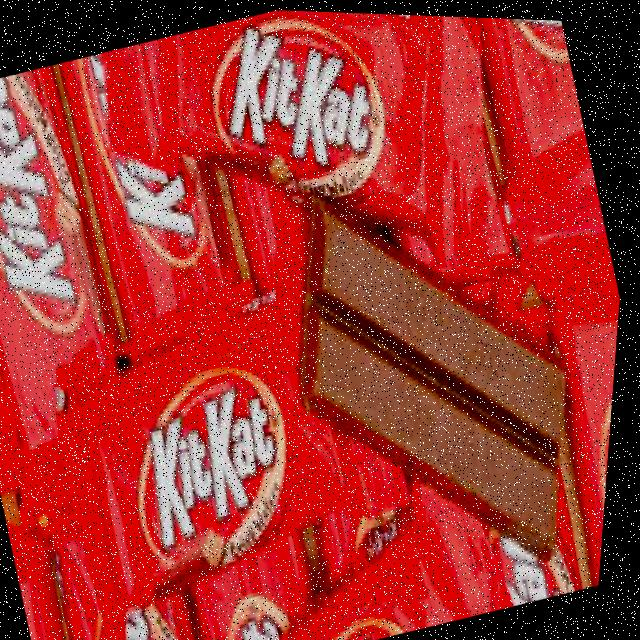kitkat: (80, 3, 535, 362), (37, 291, 441, 611), (0, 61, 159, 459)
